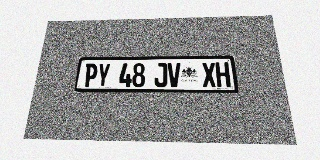4: (119, 63, 133, 87)
8: (132, 63, 145, 87)
H: (215, 62, 231, 87)
J: (154, 63, 167, 87)
P: (83, 63, 98, 87)
V: (168, 63, 181, 87)
X: (202, 62, 217, 87)
Y: (96, 63, 111, 87)
